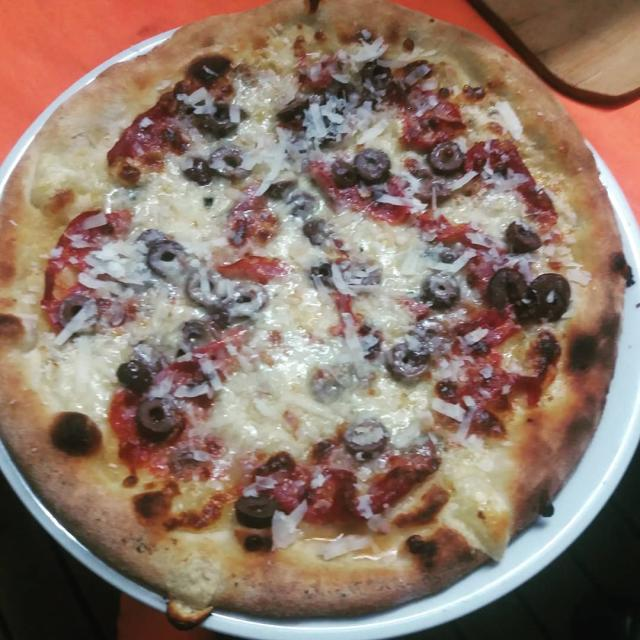black_olives: (486, 267, 528, 319), (530, 273, 571, 319), (136, 396, 176, 443), (344, 419, 386, 459), (386, 341, 430, 379), (208, 145, 254, 181), (418, 272, 461, 310), (184, 269, 226, 307), (146, 240, 189, 277), (234, 494, 280, 528), (58, 296, 99, 330), (223, 283, 269, 313), (354, 148, 391, 185), (203, 103, 242, 138), (177, 319, 216, 352), (428, 141, 465, 174), (116, 359, 154, 391), (505, 220, 541, 252), (324, 80, 357, 114), (360, 59, 392, 90), (134, 228, 168, 256), (276, 98, 310, 122), (332, 157, 358, 188), (302, 218, 329, 244), (287, 191, 316, 215), (311, 259, 336, 285)
pizza: (0, 0, 635, 632)
